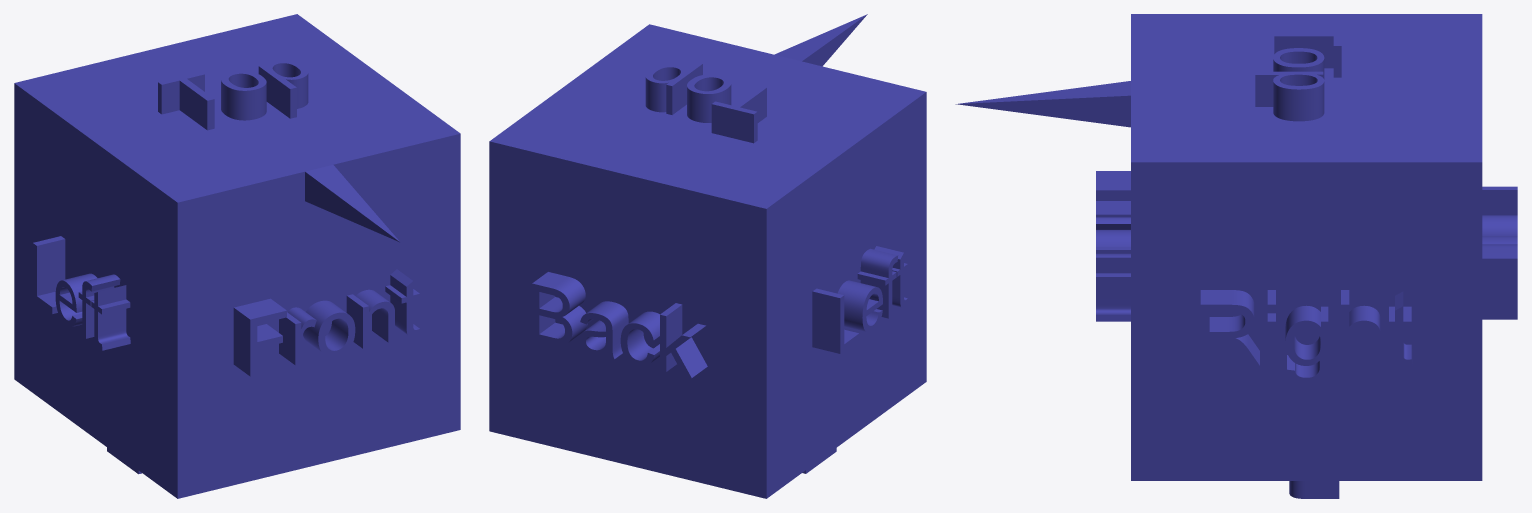
Rendered from Reference_Cube-10cm.fbx.
3 views of the same model, side by side, from view 1: azimuth 30°, elevation 25°; view 2: azimuth 150°, elevation 25°; view 3: azimuth 270°, elevation 25° (orthographic). The views are drawn at different scales.
Visible parts, largest first — view 1: 10CM_Cube; view 2: 10CM_Cube; view 3: 10CM_Cube.
Part boxes in pixels (x1=…): 10CM_Cube: x1=14, y1=14, x2=460, y2=498; 10CM_Cube: x1=489, y1=14, x2=926, y2=498; 10CM_Cube: x1=955, y1=14, x2=1517, y2=498.
Bounding box in the file's own units: 12 × 12 × 16.
